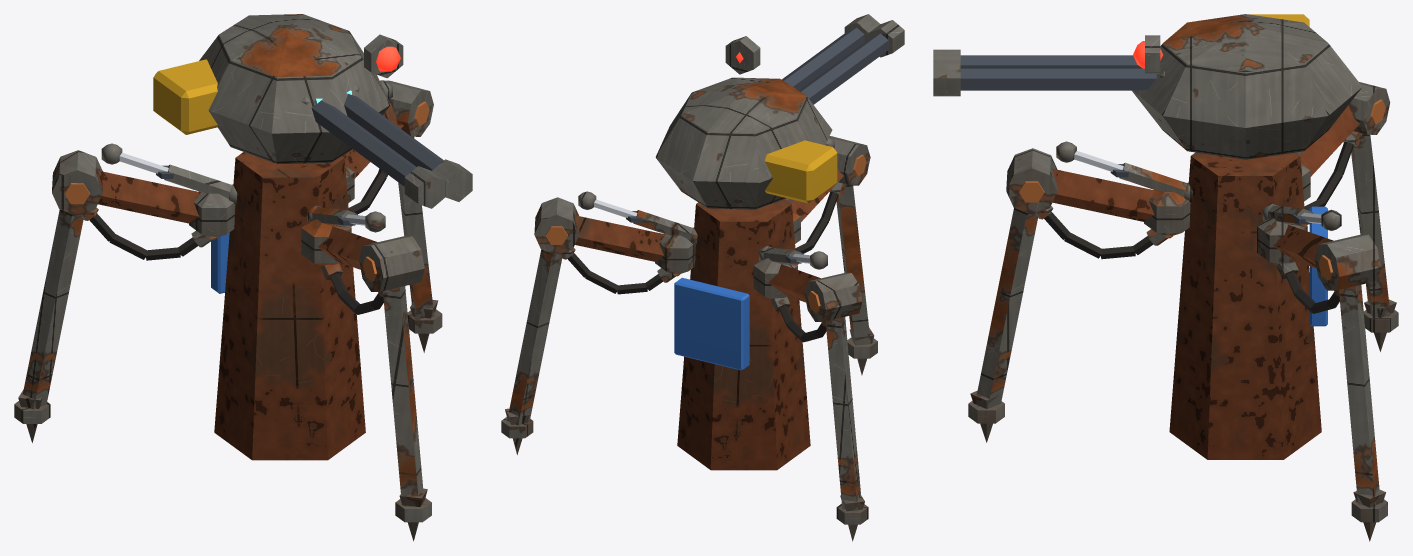
File: tourelle.glb
3 views of the same model, side by side, from view 1: azimuth 30°, elevation 25°; view 2: azimuth 150°, elevation 25°; view 3: azimuth 270°, elevation 25° (orthographic). The views are drawn at different scales.
Parts seen in each view (by area): view 1: tourelle; view 2: tourelle; view 3: tourelle.
Boxes of the visible parts, x1,y1,x2,y2 form: tourelle: (14,14,472,541); tourelle: (501,14,904,541); tourelle: (933,14,1398,541).
Size of the model in its own units: 1.58 by 1.57 by 1.53.
Materials: 10 (2 with a texture image).
